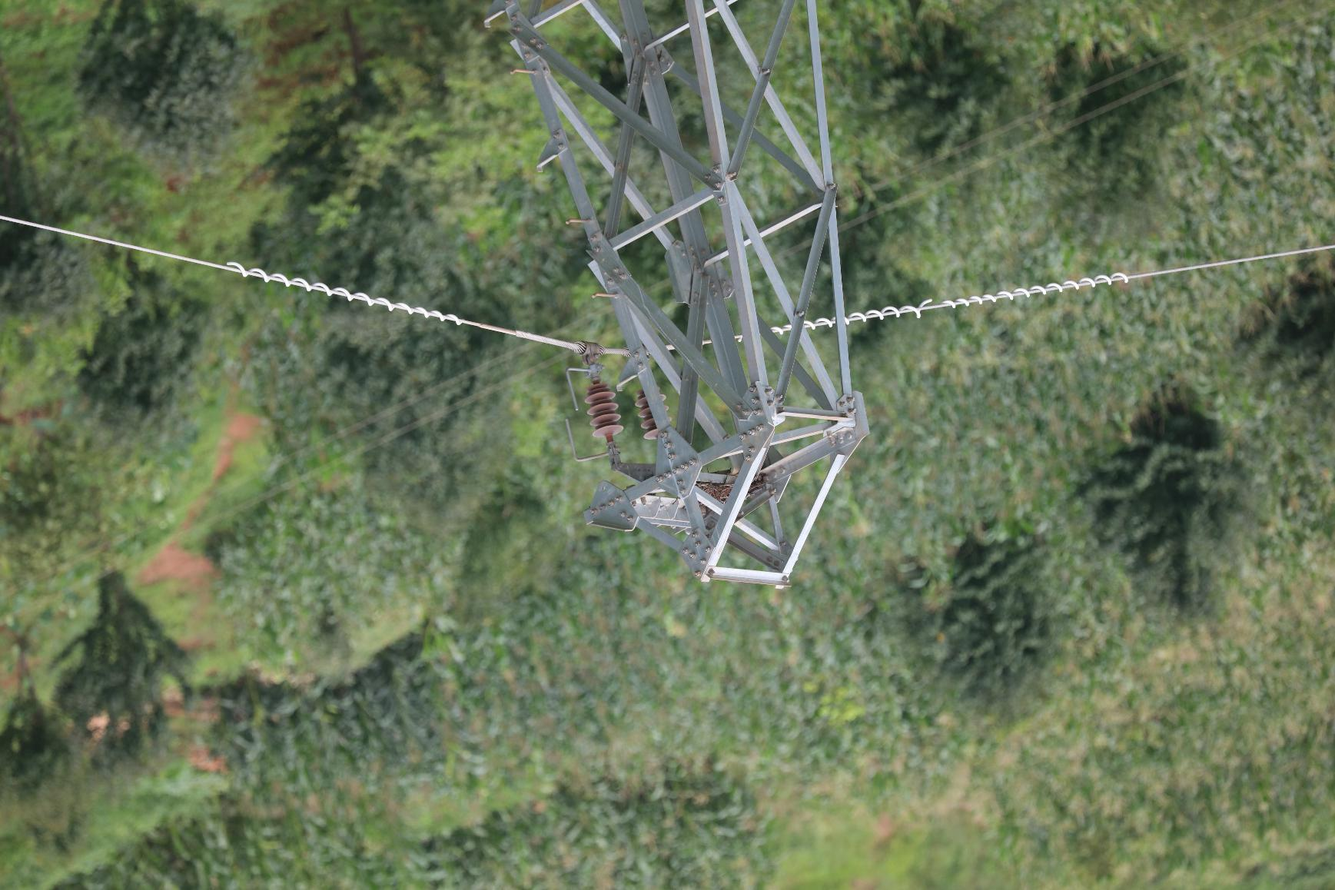nest: (689, 477, 734, 505)
